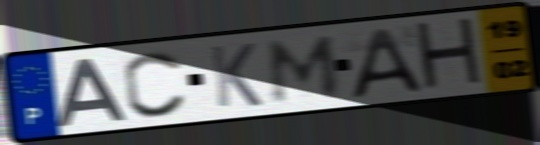A: (346, 25, 426, 101), (54, 56, 130, 129)
C: (121, 49, 191, 120)
H: (412, 15, 488, 95)
K: (206, 40, 265, 110)
M: (267, 33, 343, 107)
